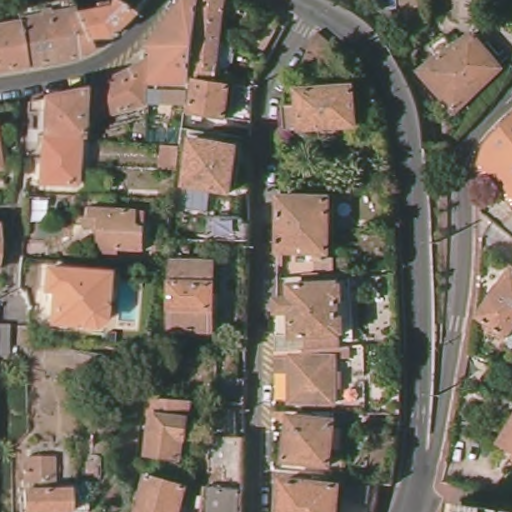pool: (116, 282, 142, 324), (335, 200, 355, 221)
